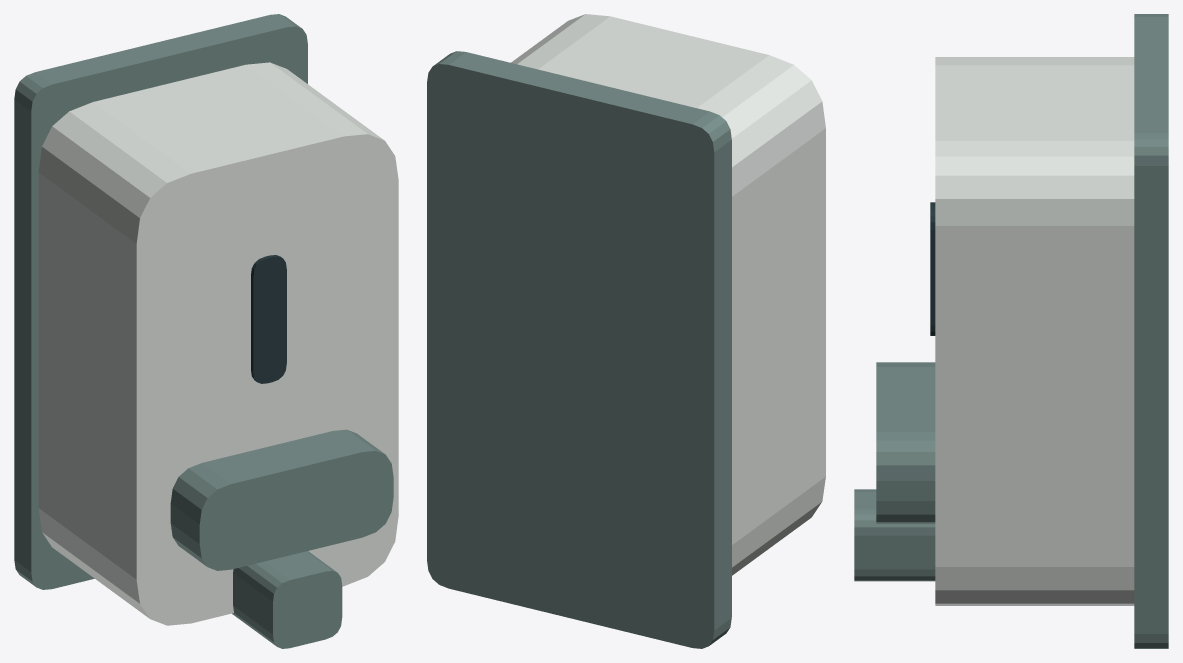
The picture shows the model from 3 angles, left to right: view 1: azimuth 30°, elevation 25°; view 2: azimuth 150°, elevation 25°; view 3: azimuth 270°, elevation 25°; orthographic projection. The views are drawn at different scales.
Visible parts, largest first — view 1: dispenser-housing, dispenser-wall-back, dispenser-actuator, dispenser-outlet-manifold, dispenser-level-window; view 2: dispenser-wall-back, dispenser-housing; view 3: dispenser-housing, dispenser-wall-back, dispenser-actuator, dispenser-outlet-manifold, dispenser-level-window.
Part boxes in pixels (box(x1,y1,x2,y2)): dispenser-housing: box(38, 62, 398, 625); dispenser-wall-back: box(14, 14, 307, 589); dispenser-actuator: box(170, 429, 393, 570); dispenser-outlet-manifold: box(232, 551, 342, 648); dispenser-level-window: box(251, 255, 286, 383); dispenser-wall-back: box(427, 51, 731, 648); dispenser-housing: box(511, 14, 825, 575); dispenser-housing: box(935, 57, 1134, 605); dispenser-wall-back: box(1134, 14, 1168, 648); dispenser-actuator: box(876, 362, 935, 523); dispenser-outlet-manifold: box(854, 489, 935, 581); dispenser-level-window: box(930, 202, 935, 335).
Size of the model in its own units: 0.132 by 0.23 by 0.128.
